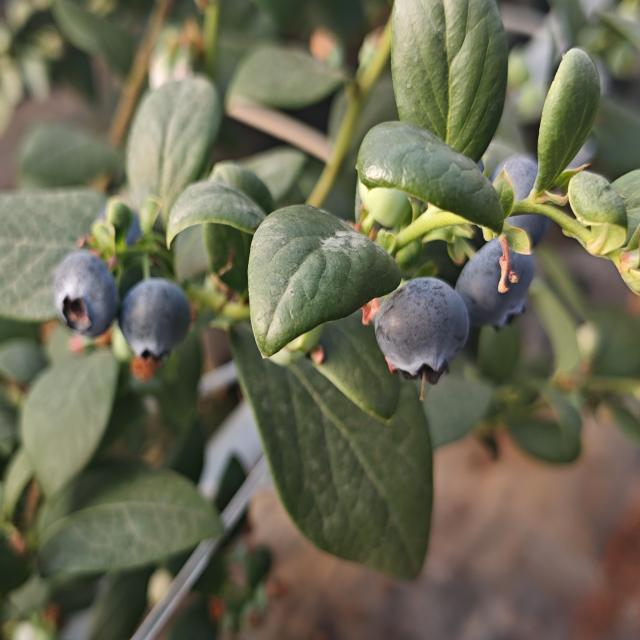ripe: (372, 274, 471, 388), (454, 232, 536, 332), (117, 274, 194, 369), (487, 146, 553, 252), (51, 247, 120, 341), (100, 197, 170, 263)
